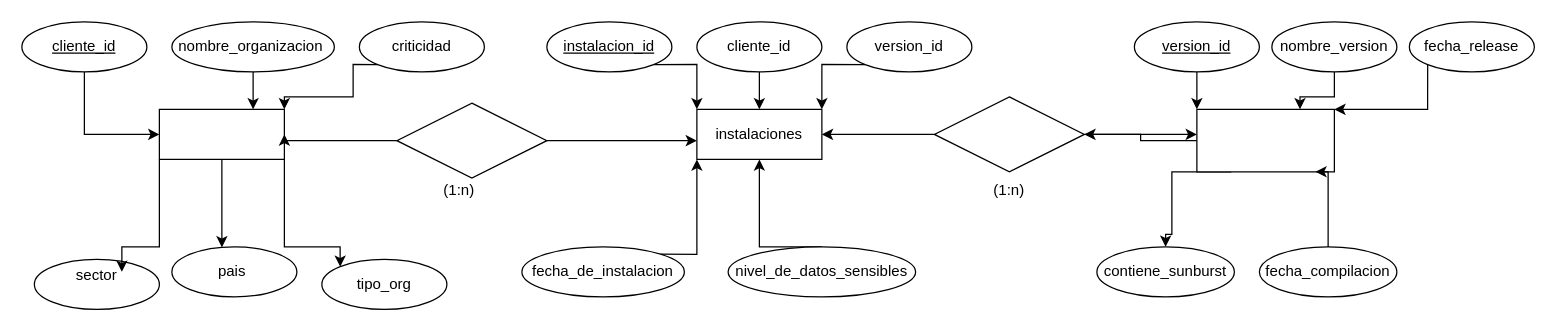
Some shapes in this 1556 by 331 pixel diagram are drawn without their labels. Here are the shapes that lost their labels. From the top down, the centre of each, then its label:
At point (221, 133): "clientes".
At point (471, 140): "tiene".
At point (1008, 134): "estar".
At point (1265, 140): "versiones_software".
